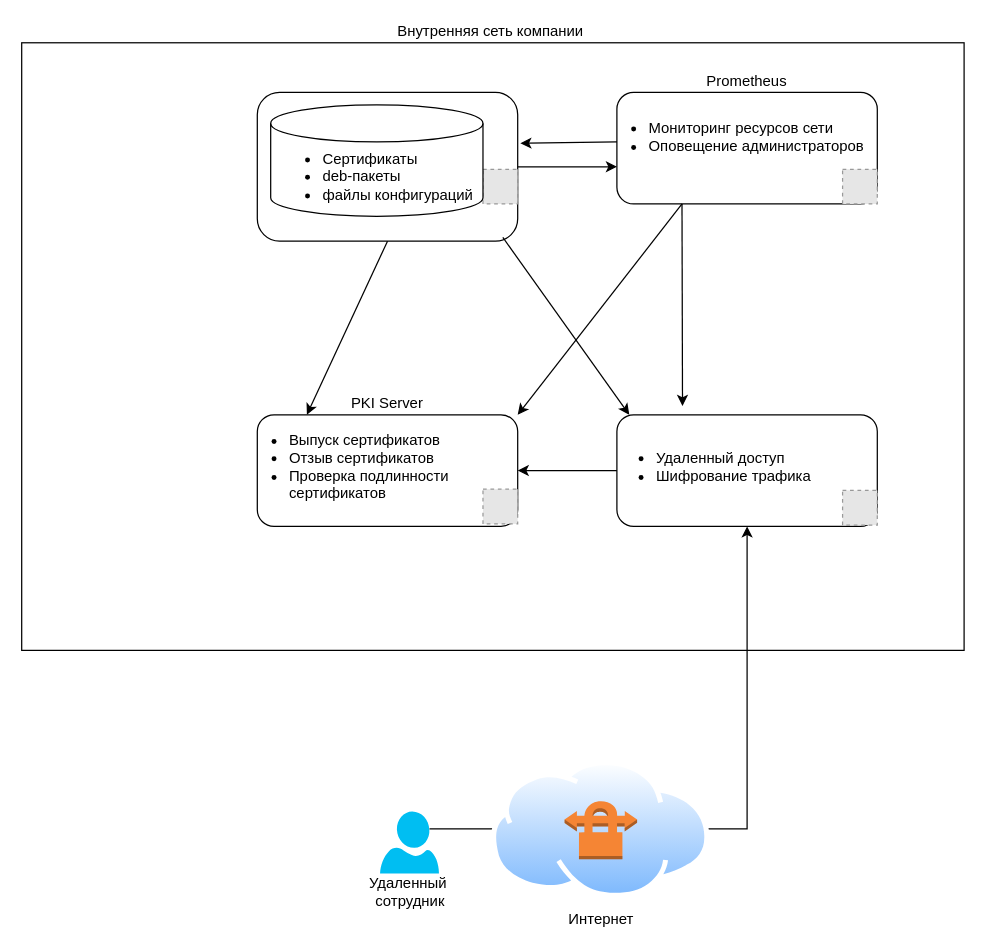
Some shapes in this 986 by 949 pixel diagram are drawn without their labels. Grey dashed boxes stand in for pictures. Here are the shapes that lost their labels. From the top down, the box of each, then its label:
(256, 91, 518, 241): Backup
(616, 414, 877, 526): VPN Server
